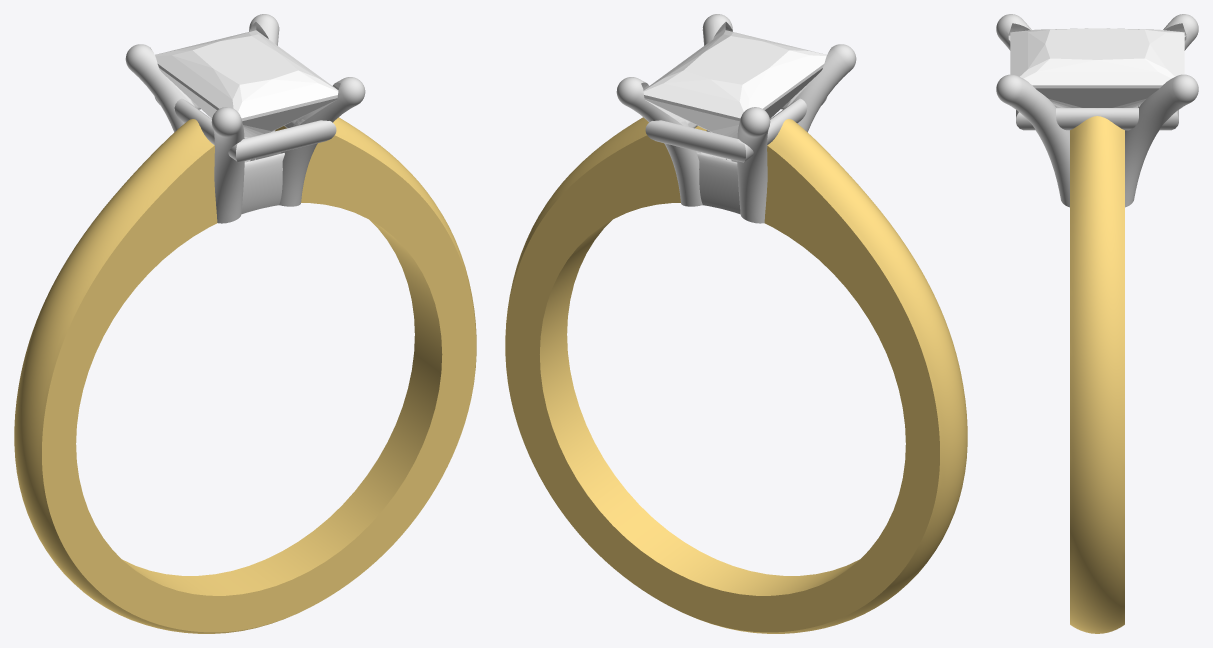
Rendered from AndrewmeridithEM_webgi.glb.
3 views of the same model, side by side, from view 1: azimuth 30°, elevation 25°; view 2: azimuth 150°, elevation 25°; view 3: azimuth 270°, elevation 25° (orthographic).
Parts seen in each view (by area): view 1: andrew_YG_for_3d_model, andrew_PT_for_3d_model, andrew_dia_for_3d_model; view 2: andrew_YG_for_3d_model, andrew_PT_for_3d_model, andrew_dia_for_3d_model; view 3: andrew_YG_for_3d_model, andrew_dia_for_3d_model, andrew_PT_for_3d_model.
Boxes of the visible parts, x1=… form: andrew_YG_for_3d_model: x1=14, y1=117, x2=476, y2=633; andrew_PT_for_3d_model: x1=125, y1=14, x2=365, y2=223; andrew_dia_for_3d_model: x1=155, y1=30, x2=338, y2=137; andrew_YG_for_3d_model: x1=505, y1=117, x2=967, y2=633; andrew_PT_for_3d_model: x1=616, y1=14, x2=856, y2=223; andrew_dia_for_3d_model: x1=643, y1=30, x2=826, y2=137; andrew_YG_for_3d_model: x1=1070, y1=116, x2=1124, y2=633; andrew_dia_for_3d_model: x1=1010, y1=28, x2=1184, y2=107; andrew_PT_for_3d_model: x1=996, y1=14, x2=1198, y2=207.
Bounding box in the file's own units: 2.49 × 2.98 × 0.965.
